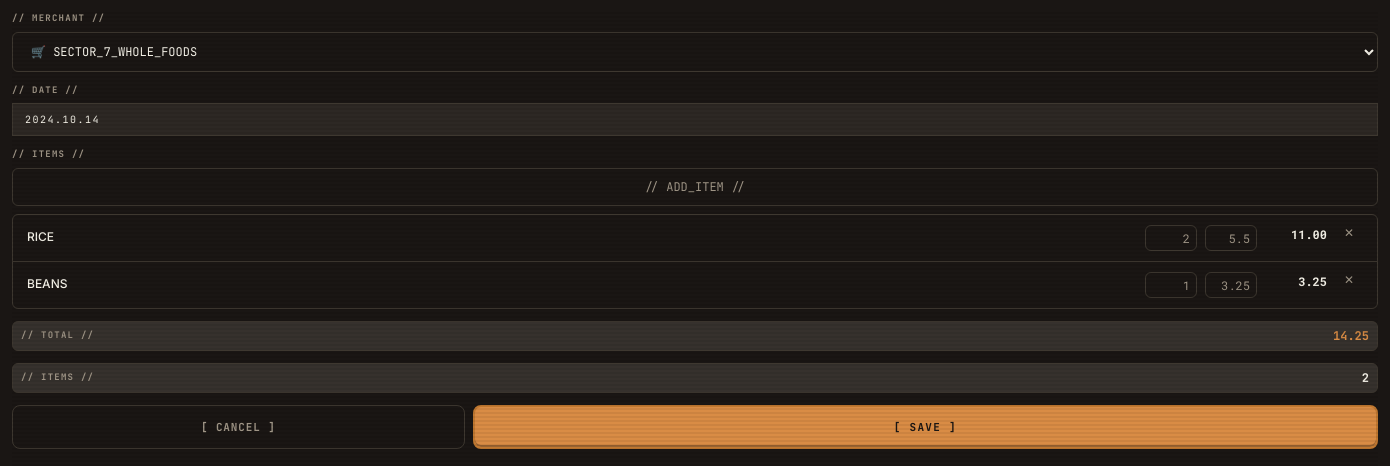
Test case: ReceiptEditForm › Running total › updates running total when item is removed
Expected: the text "// TOTAL //" shows "14.25", x1=1333 y1=328 x2=1369 y2=344
Click the button named "Remove" at (1349,280), box x1=1335 y1=272 x2=1363 y2=288
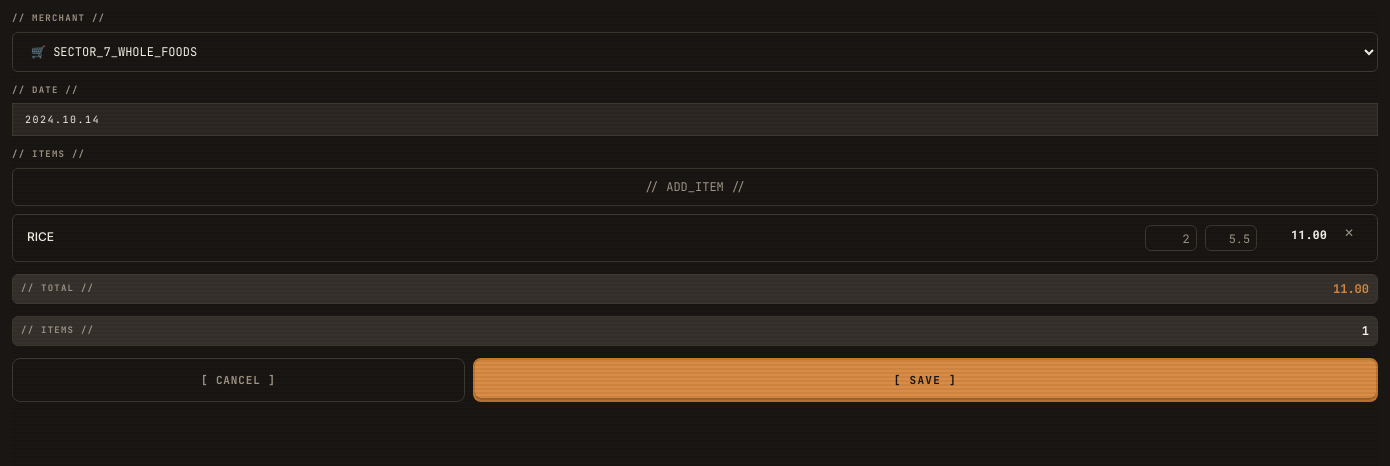
Now the text "// TOTAL //" shows "11.00", box x1=1333 y1=280 x2=1369 y2=296
